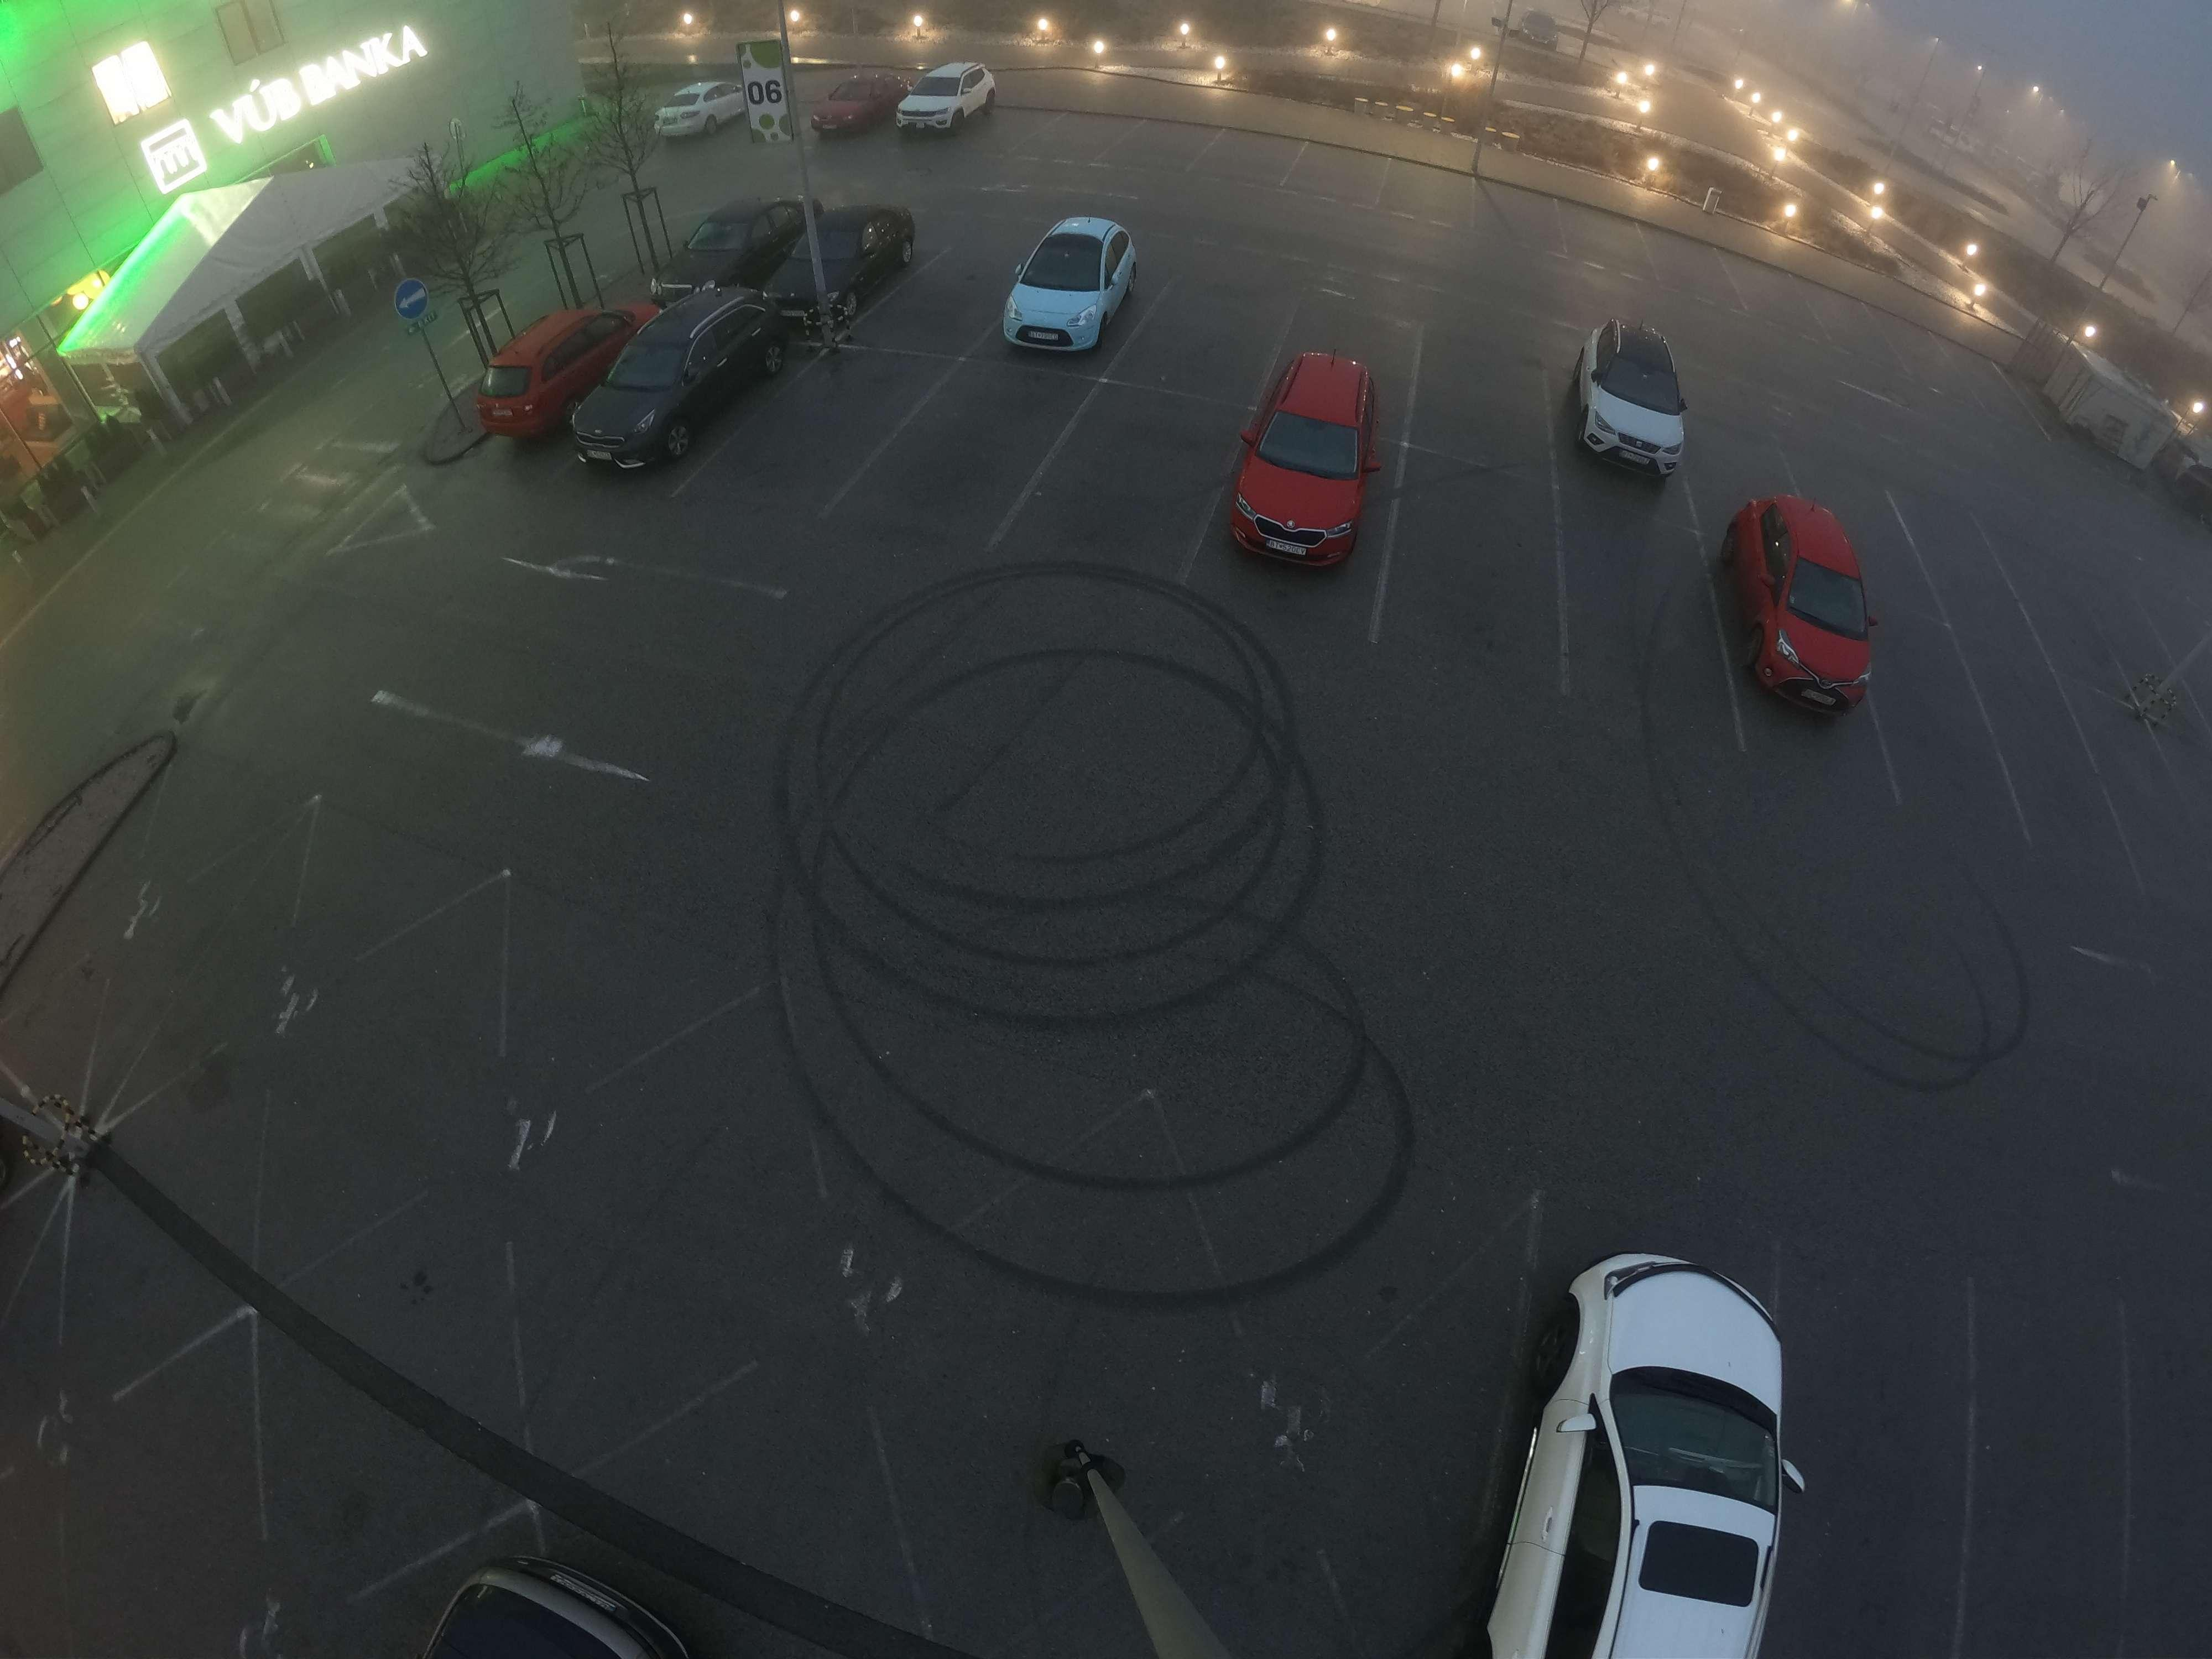empty: (1521, 1227, 1818, 1659), (1207, 338, 1395, 573), (1710, 481, 1892, 725), (566, 293, 798, 476), (1552, 312, 1705, 483), (988, 207, 1148, 361), (474, 312, 631, 455), (890, 58, 998, 148), (813, 77, 894, 138)
occupied: (1979, 1441, 2142, 1633), (1799, 1473, 1944, 1640), (1860, 627, 1996, 802), (1393, 474, 1547, 622), (1575, 532, 1709, 680), (1980, 683, 2099, 833), (1059, 427, 1200, 547), (1139, 274, 1275, 390), (747, 382, 885, 491), (907, 401, 1038, 511), (1430, 338, 1559, 443), (911, 260, 996, 354)
